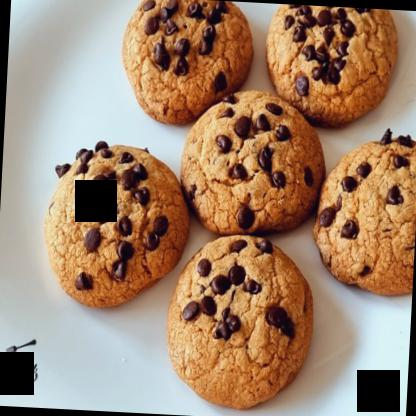cookie: (163, 232, 316, 406), (44, 138, 194, 310), (178, 86, 325, 240), (310, 126, 415, 302), (116, 0, 257, 125), (260, 3, 400, 126)
